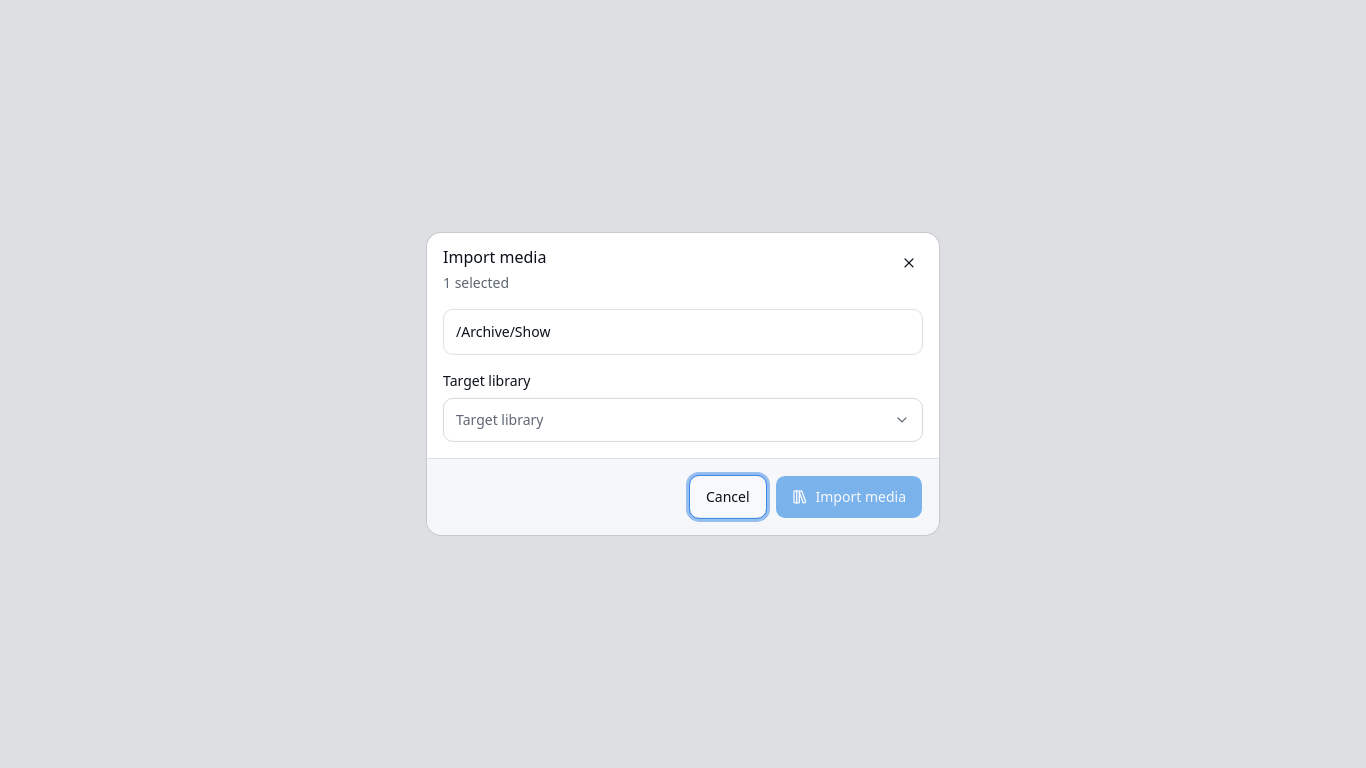
media import › requires a library choice when a directory belongs to multiple libraries
expect the button "Import media" is disabled: met, box [774,475,923,519]
Click the dropdown labelled "Target library".
click(500, 420)  # box [443,398,923,442]
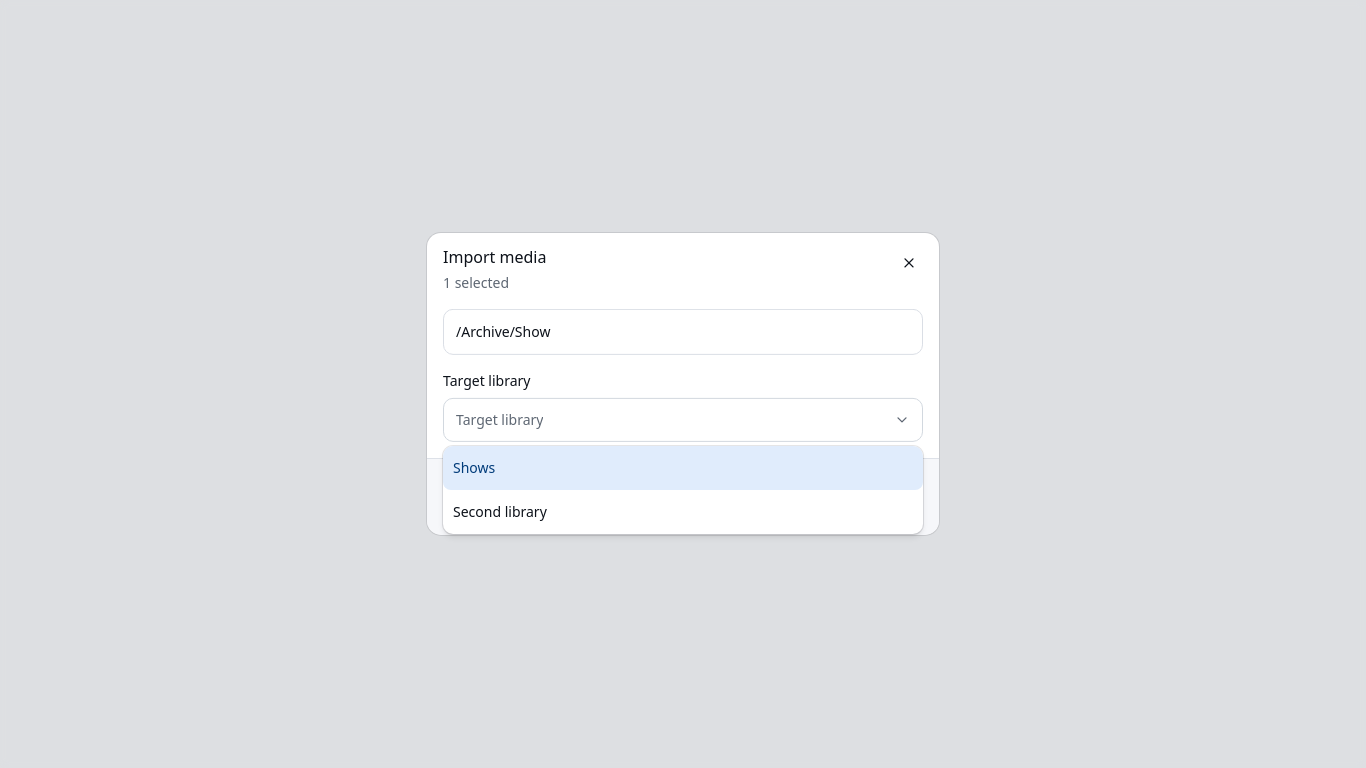
Click the option "Second library".
click(500, 512)  # box [453,502,547,521]
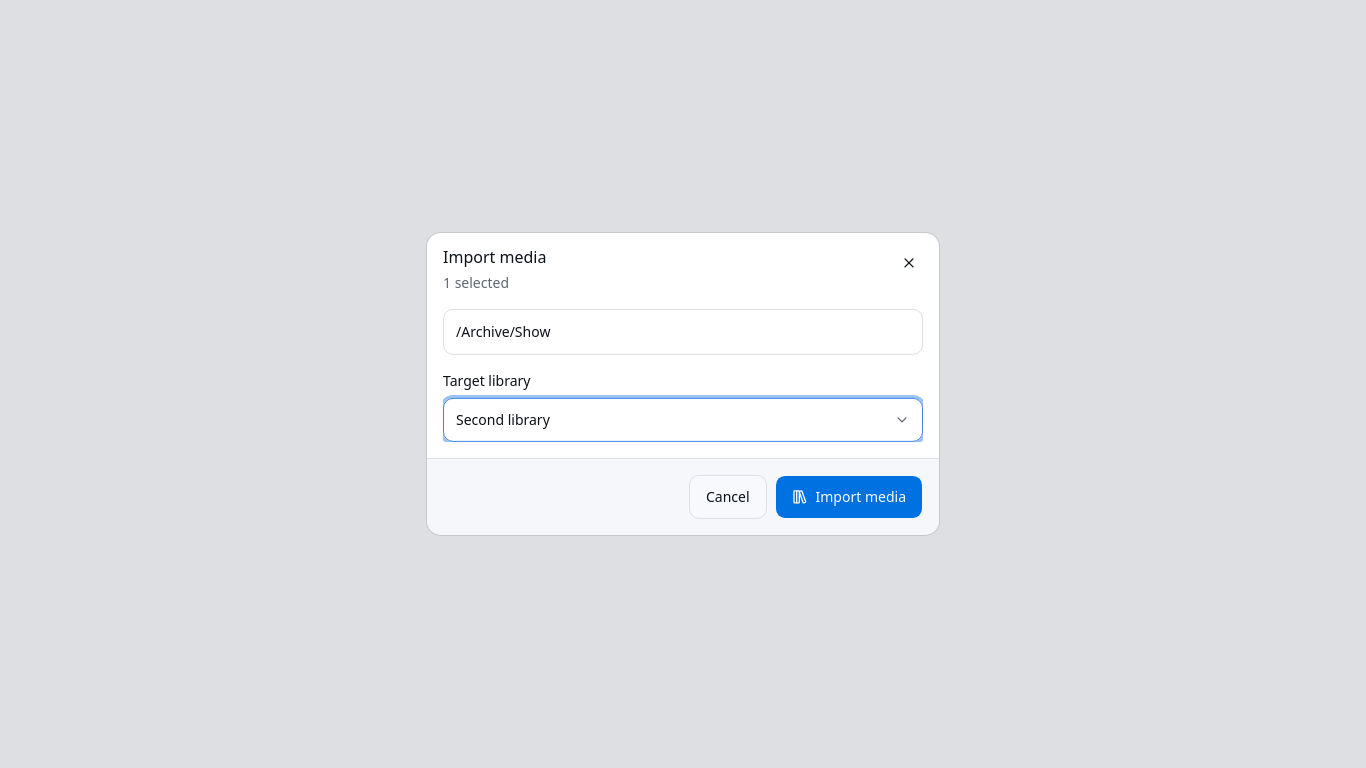
expect the button "Import media" is enabled: met, box [774,475,923,519]
